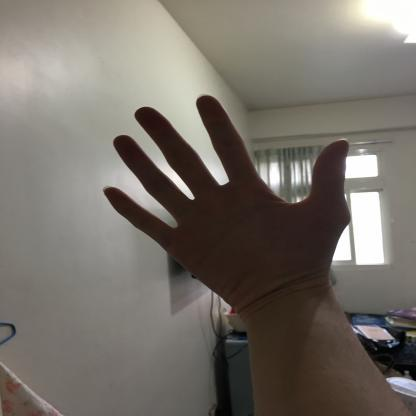bare_hand: (94, 87, 359, 333)
